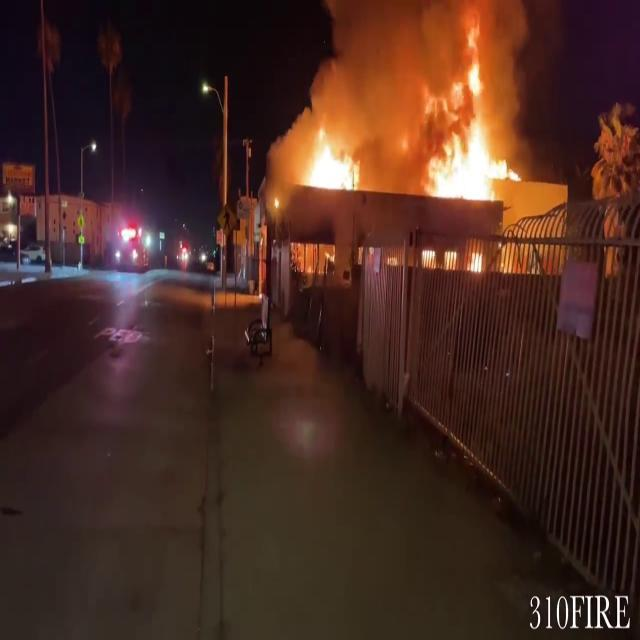Fire: (412, 60, 528, 210), (296, 116, 366, 198)
Smoke: (300, 0, 535, 130)
